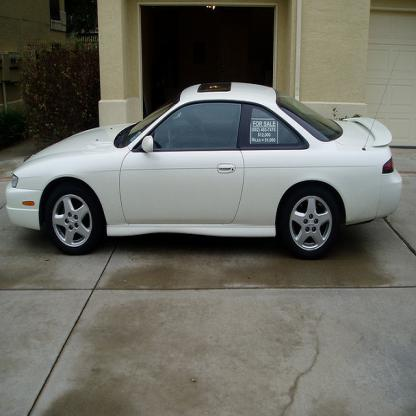Vehicle: (8, 82, 402, 261)
